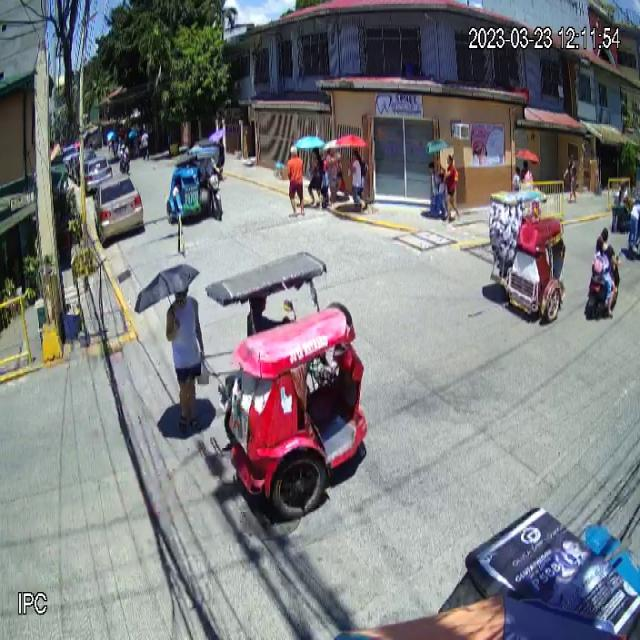Tricycle: (204, 248, 368, 521), (489, 188, 568, 326)
